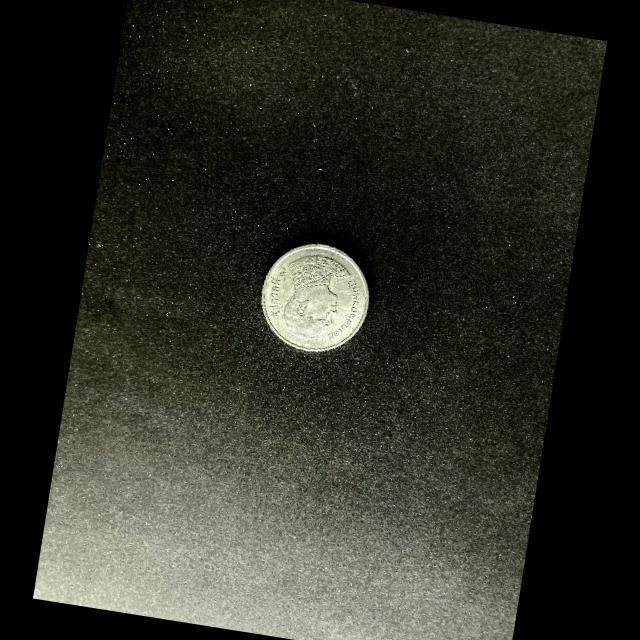1 Bath: (261, 243, 373, 356)
